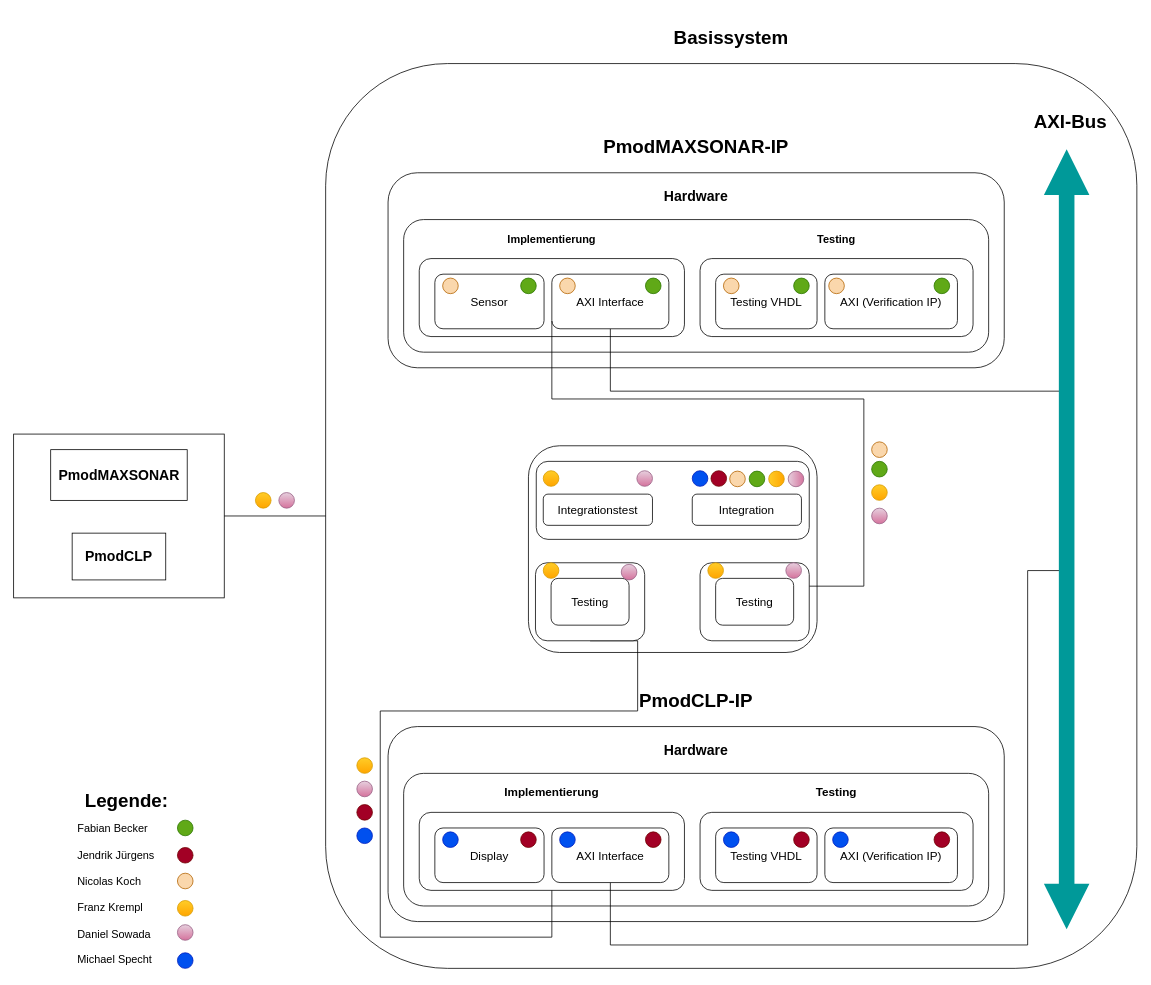
The diagram is 1151 pixels wide and 985 high, and some of its shapes have lost their labels. The shapes that lost their labels are listed below. From the top down, each one's box as (x1, y1, x2, y2) in pixels, then its label:
(13, 433, 224, 598): Digilent Devices
(535, 461, 809, 539): Main
(528, 445, 817, 652): Software-Stack
(535, 562, 645, 641): Treiber Display
(699, 562, 809, 641): Treiber Sensor
